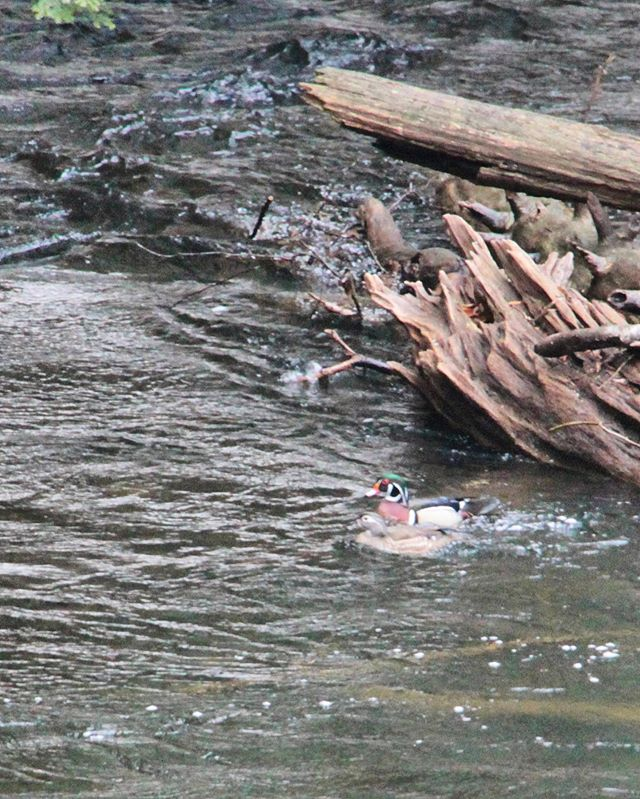animal: (339, 463, 485, 561)
river: (6, 4, 640, 799)
tree trunk: (281, 65, 640, 496)
